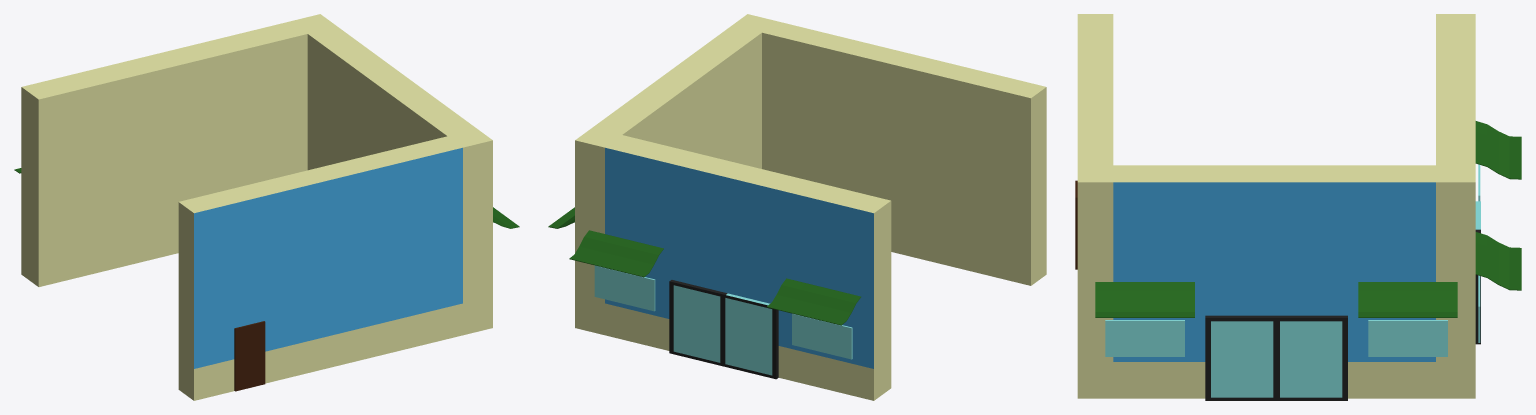
The model's file is building3.fbx.
3 views of the same model, side by side, from view 1: azimuth 30°, elevation 25°; view 2: azimuth 150°, elevation 25°; view 3: azimuth 270°, elevation 25° (orthographic). The views are drawn at different scales.
Visible parts, largest first — view 1: Cube.012; view 2: Cube.012; view 3: Cube.012.
Part boxes in pixels (x1,y1,x2,y2): Cube.012: (14, 14, 519, 400); Cube.012: (548, 14, 1046, 400); Cube.012: (1075, 14, 1521, 400).
Bounding box in the file's own units: 1115 × 600 × 1120.
